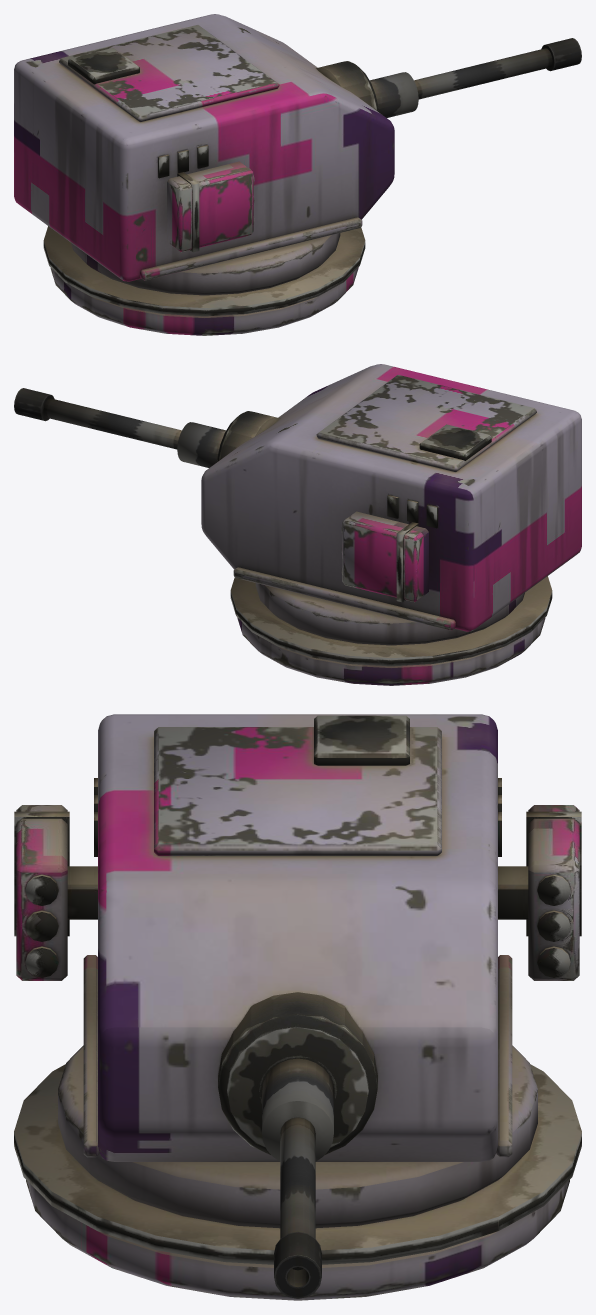
Rendered from turret_grach_t1_pixel.glb.
3 views of the same model, one above another, from view 1: azimuth 30°, elevation 25°; view 2: azimuth 150°, elevation 25°; view 3: azimuth 270°, elevation 25° (orthographic). The views are drawn at different scales.
Visible parts, largest first — view 1: turret_light_t1, guns, pods; view 2: turret_light_t1, guns, pods; view 3: turret_light_t1, guns, pods.
Boxes of the visible parts, box(x1,y1,x2,y2) form: turret_light_t1: box(14, 14, 394, 335); guns: box(316, 38, 581, 117); pods: box(167, 161, 254, 252); turret_light_t1: box(201, 364, 581, 685); guns: box(14, 388, 279, 467); pods: box(341, 511, 428, 602); turret_light_t1: box(14, 714, 581, 1300); guns: box(218, 992, 377, 1298); pods: box(14, 805, 581, 980).
Bounding box in the file's own units: 1.14 × 0.4664 × 0.6248.
Materials: 3 (3 with a texture image).
